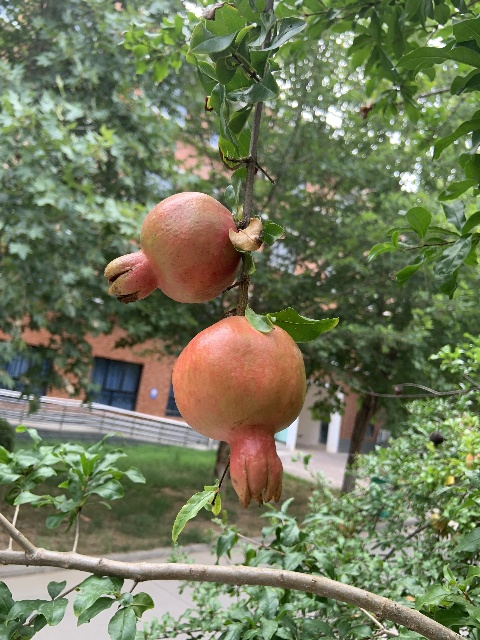ripe: (171, 315, 307, 506), (104, 191, 243, 304)
